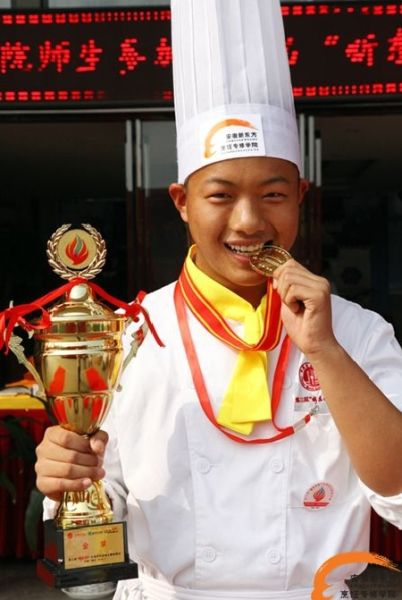face: (195, 150, 295, 286)
